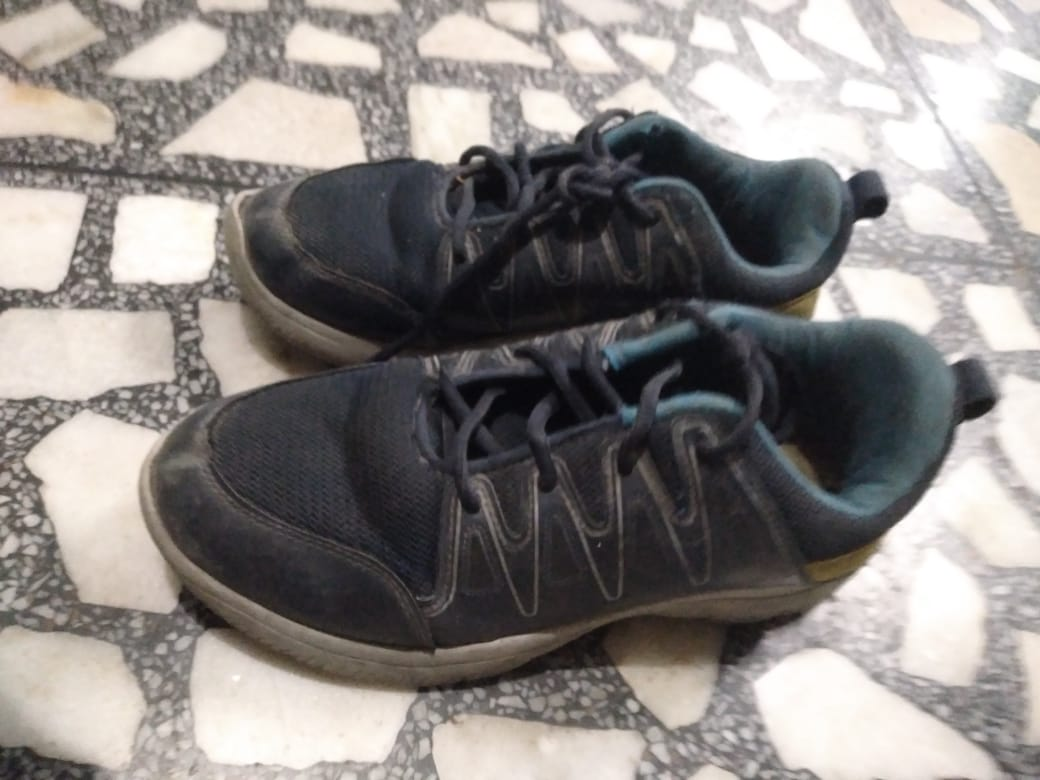Footwear: (118, 105, 994, 700)
